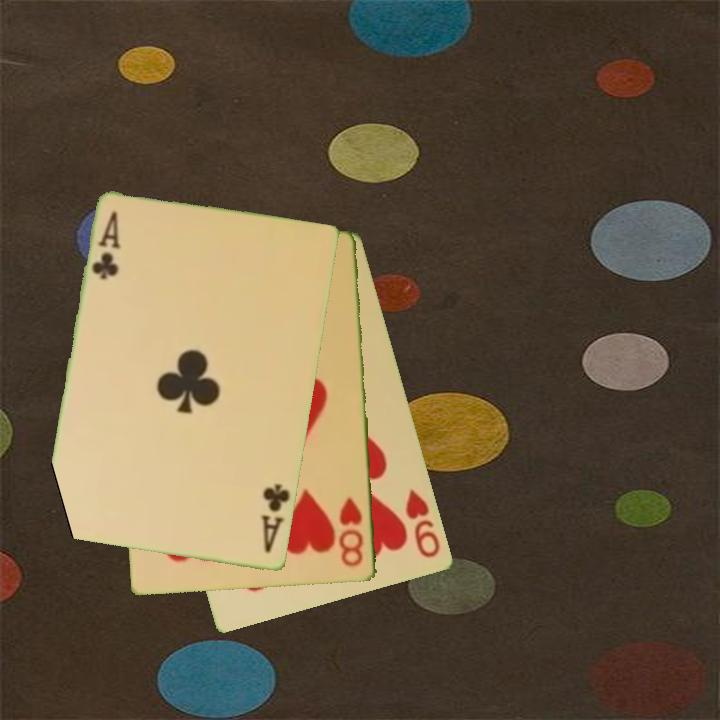8h: (336, 494, 366, 570)
9h: (402, 485, 444, 561)
Ac: (257, 480, 293, 556), (89, 208, 125, 283)
